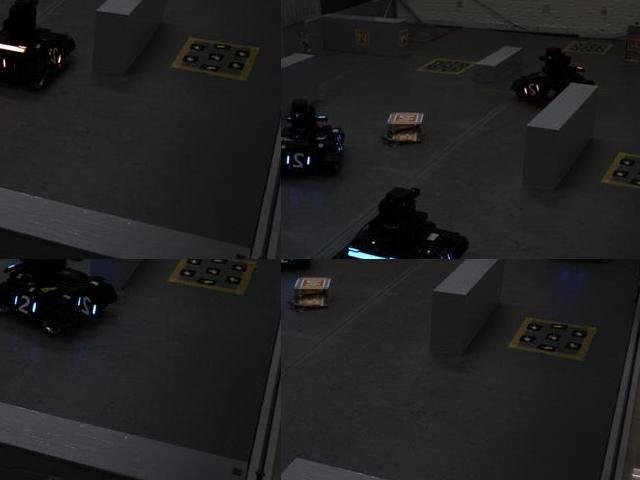armor: (10, 289, 39, 320), (75, 291, 104, 318), (284, 148, 315, 173), (47, 44, 65, 74), (522, 78, 543, 102), (0, 52, 16, 80), (428, 249, 459, 258), (281, 259, 299, 266)
